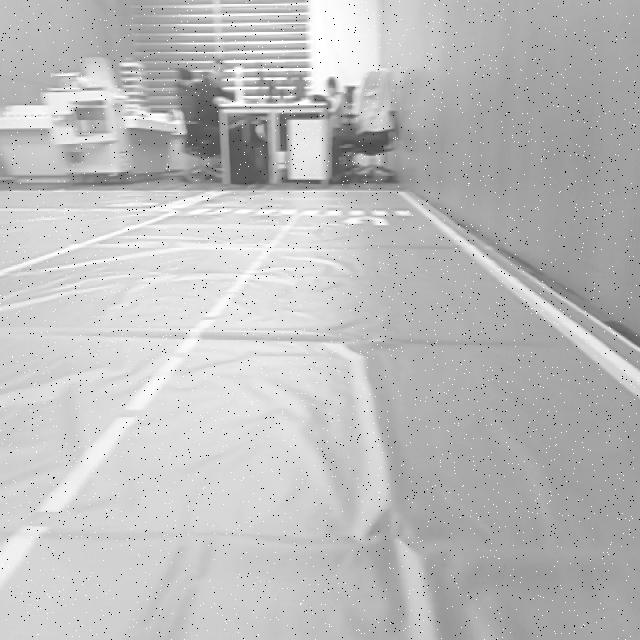left_lane: (0, 213, 298, 592)
right_lane: (404, 193, 640, 401)
